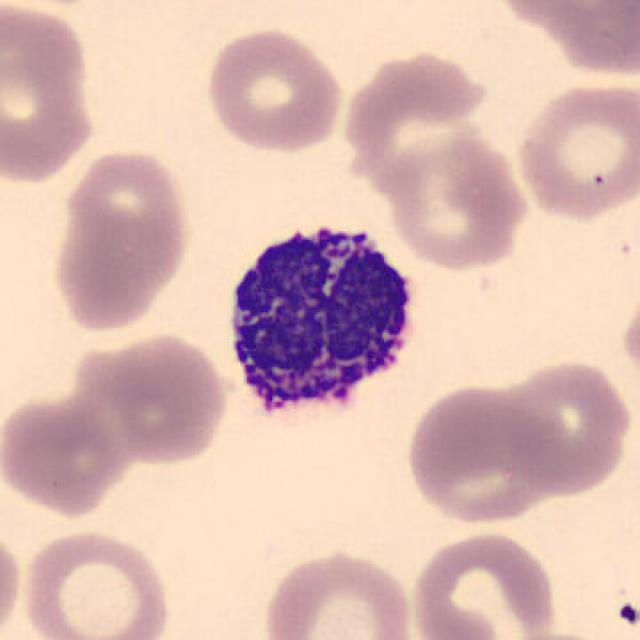Basophil: (215, 206, 427, 439)
Platelets: (614, 598, 638, 629)
RBC: (51, 141, 196, 328), (402, 383, 564, 529), (382, 127, 532, 273), (491, 354, 636, 499), (341, 56, 490, 194), (201, 23, 347, 157), (0, 0, 100, 189), (512, 77, 638, 224), (18, 525, 176, 640), (100, 330, 231, 467), (407, 527, 562, 640), (0, 389, 124, 520), (258, 545, 420, 640), (485, 0, 640, 76), (486, 0, 636, 32), (0, 523, 25, 640), (617, 281, 640, 398), (498, 627, 633, 640)
